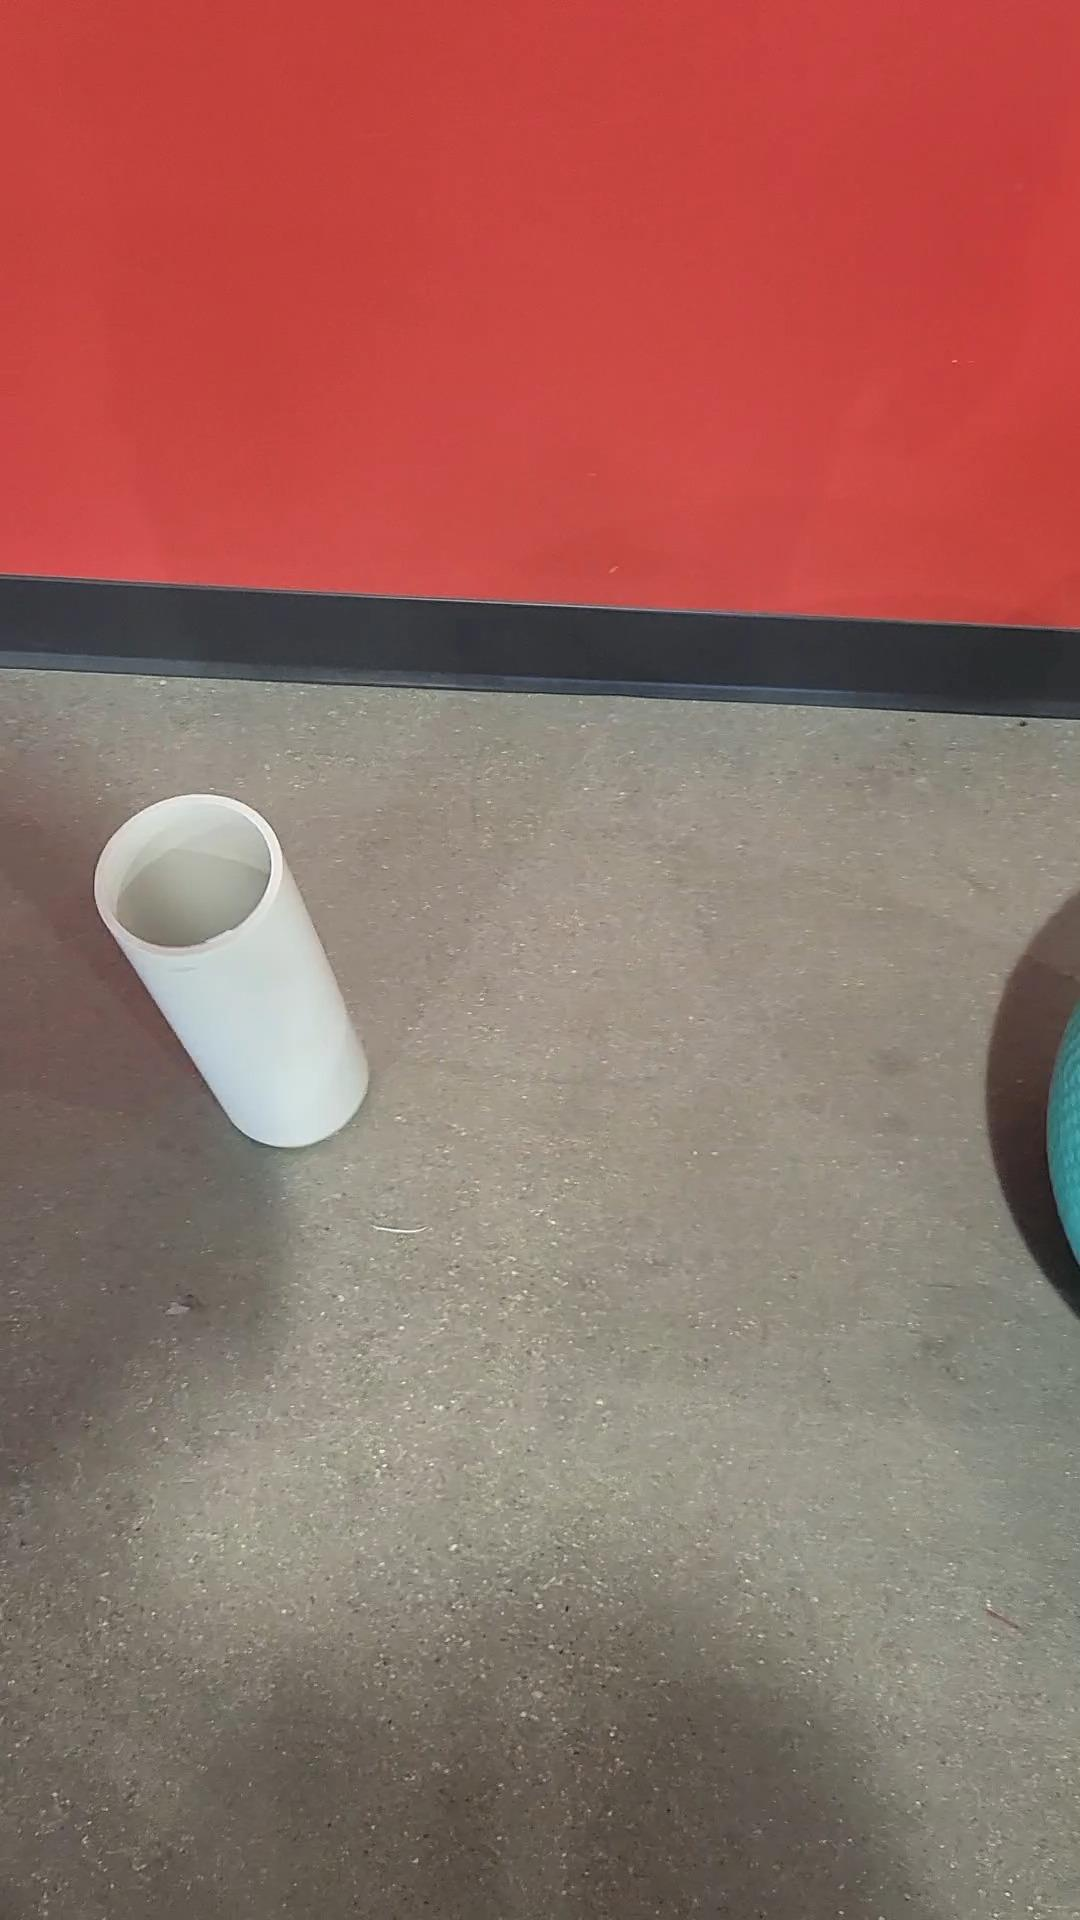algae: (1043, 994, 1079, 1270)
coral: (94, 787, 373, 1149)
